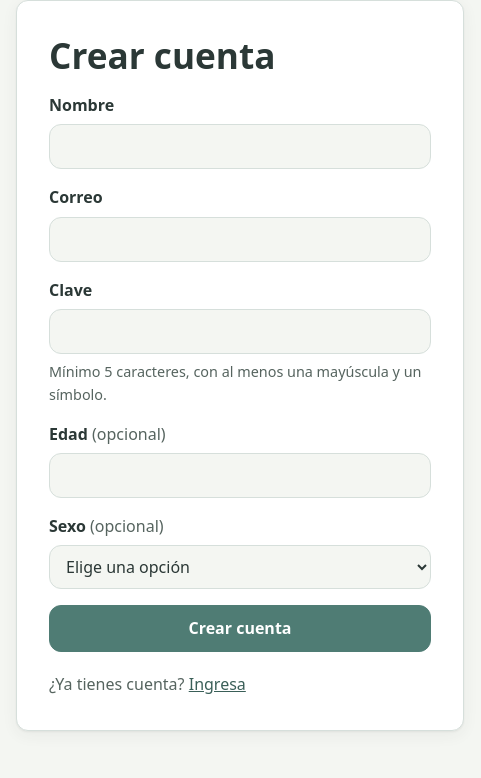
un correo ya registrado se marca en el campo
The width and height of the screenshot is (481, 778).
Type "Ana" into the field labelled "Nombre".
click(240, 147); type("Ana")  # box [49,124,431,169]
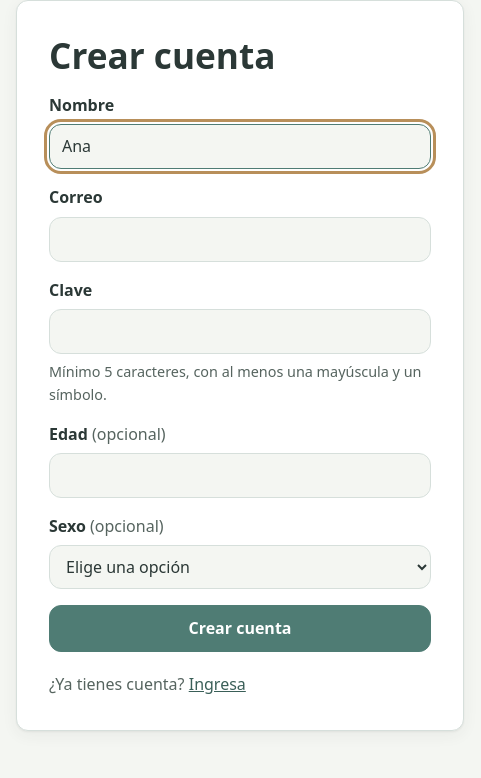
Type "ana@test.local" into the field labelled "Correo".
click(240, 239); type("ana@test.local")  # box [49,217,431,262]
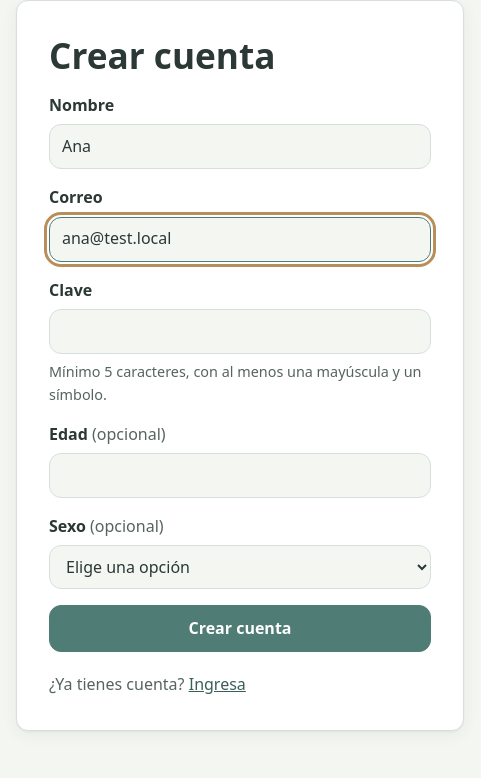
Type "Clave!" into the password field labelled "Clave".
click(240, 332); type("Clave!")  # box [49,309,431,354]
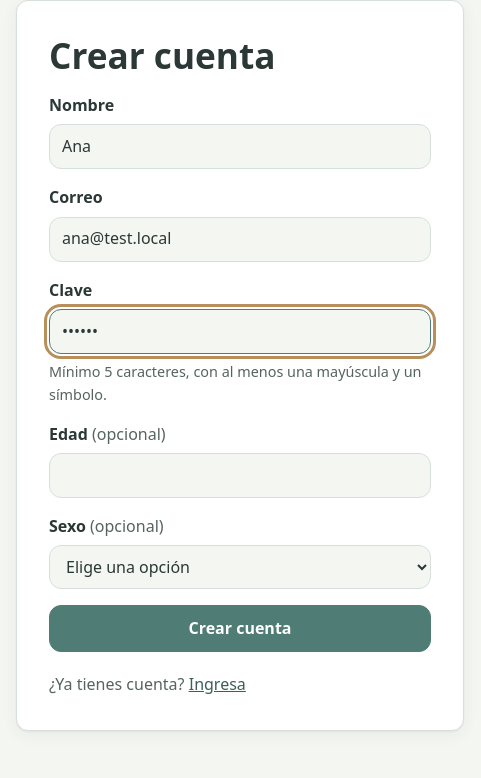
Click the button "Crear cuenta".
click(240, 629)  # box [49,605,431,652]
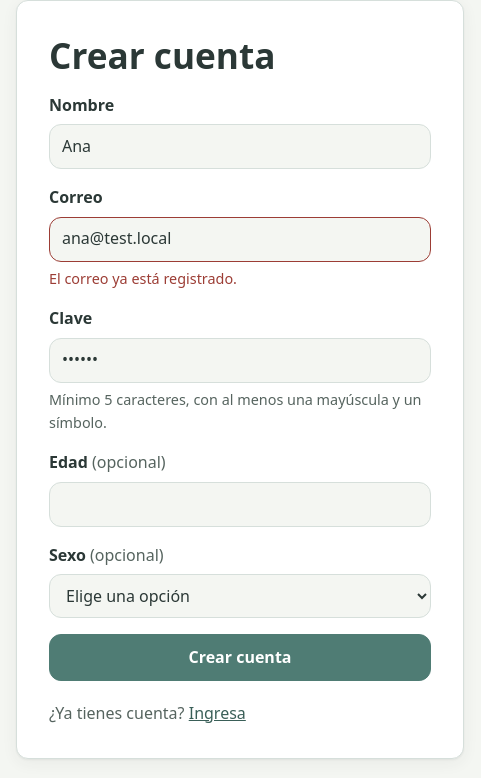
Check: the text "El correo ya está registrado." is shown, box [49,269,237,288]
